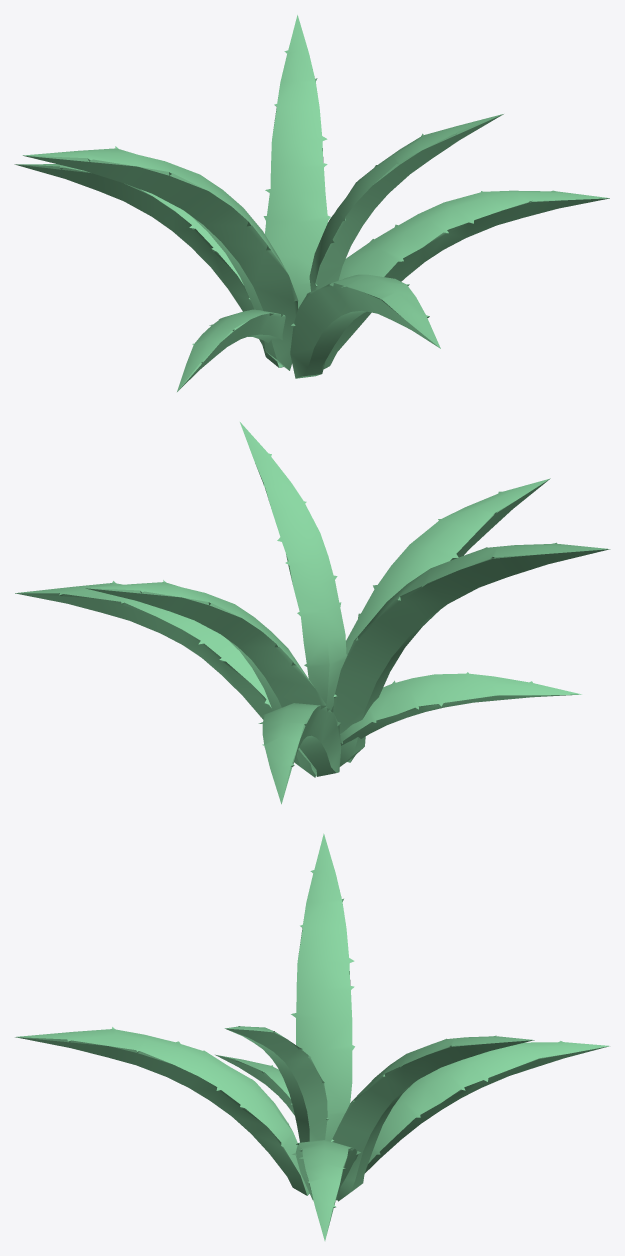
The model's file is aloe.glb.
The picture shows the model from 3 angles, top to bottom: view 1: azimuth 30°, elevation 25°; view 2: azimuth 150°, elevation 25°; view 3: azimuth 270°, elevation 25°; orthographic projection. The views are drawn at different scales.
Parts seen in each view (by area): view 1: Aloe._01; view 2: Aloe._01; view 3: Aloe._01.
Part boxes in pixels (left/top/right/bottom): Aloe._01: left=14, top=15, right=609, bottom=391; Aloe._01: left=15, top=422, right=610, bottom=804; Aloe._01: left=15, top=833, right=609, bottom=1240.
Bounding box in the file's own units: 1.76 × 0.8149 × 1.8.
Materials: 1 (1 with a texture image).
